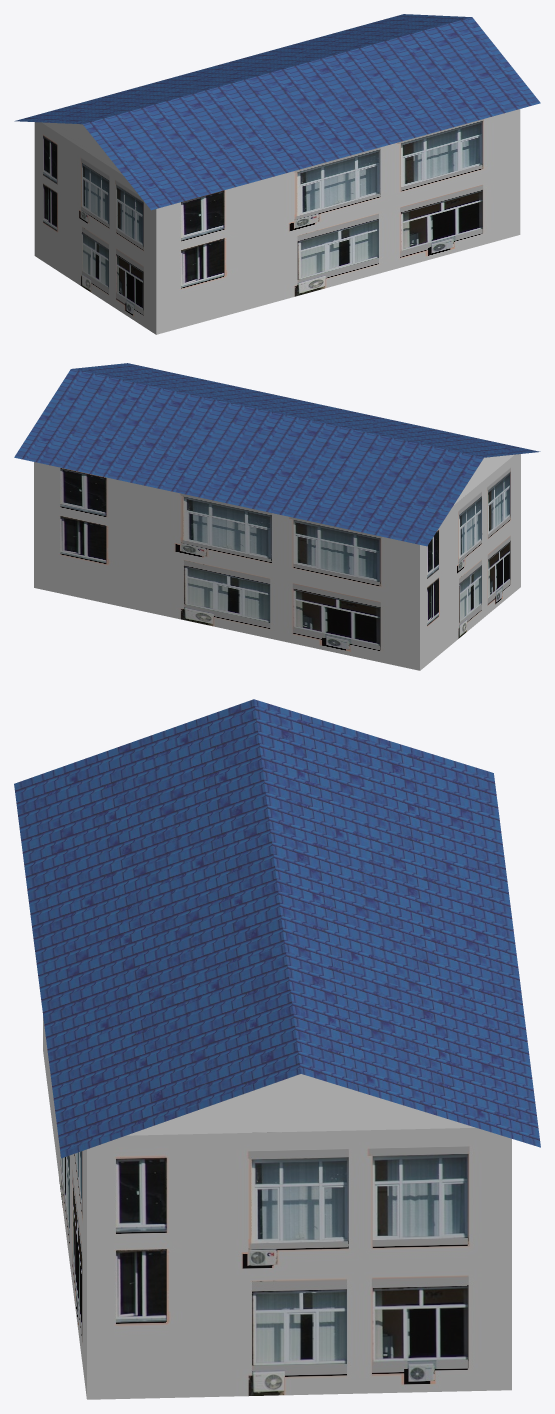
3 views of the same model, one above another, from view 1: azimuth 30°, elevation 25°; view 2: azimuth 150°, elevation 25°; view 3: azimuth 270°, elevation 25° (orthographic). The views are drawn at different scales.
Parts seen in each view (by area): view 1: CityEngineMaterial_9_m, CityEngineMaterial_10_m, CityEngineMaterial_3_m; view 2: CityEngineMaterial_9_m, CityEngineMaterial_10_m, CityEngineMaterial_3_m; view 3: CityEngineMaterial_10_m, CityEngineMaterial_9_m, CityEngineMaterial_3_m.
Boxes of the visible parts, x1,y1,x2,y2 form: CityEngineMaterial_9_m: (34, 109, 520, 334); CityEngineMaterial_10_m: (14, 14, 540, 210); CityEngineMaterial_3_m: (41, 122, 122, 174); CityEngineMaterial_9_m: (34, 454, 520, 670); CityEngineMaterial_10_m: (14, 363, 540, 546); CityEngineMaterial_3_m: (454, 454, 514, 504); CityEngineMaterial_10_m: (14, 699, 540, 1158); CityEngineMaterial_9_m: (43, 1016, 511, 1399); CityEngineMaterial_3_m: (126, 1074, 474, 1135).
Bounding box in the file's own units: 31.26 × 12.61 × 18.06.
